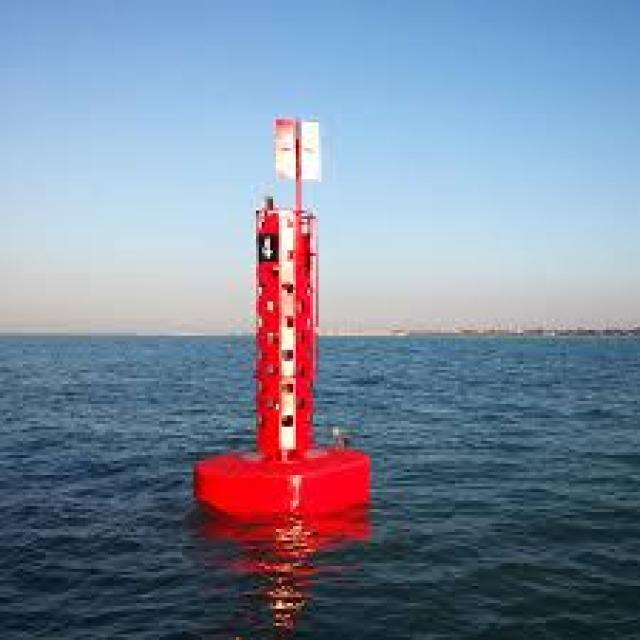buoy: (189, 83, 390, 536)
